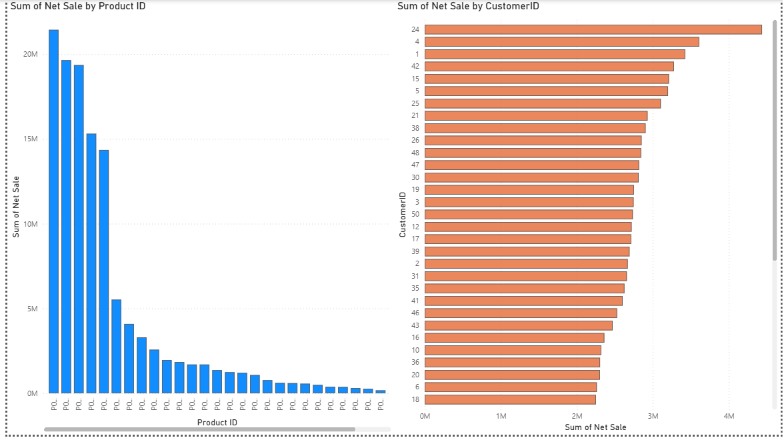

The dashboard page shown, as its layout file describes it:
{"tool":"powerbi","page":{"name":"Net Sale","canvas":[1280,720],"ordinal":0},"visuals":[{"type":"columnChart","fields":{"Category":["Fact.Product ID"],"Y":["Sum(Fact.Net Sale)"]},"box":[0,0,640,720],"z":0},{"type":"barChart","fields":{"Y":["Sum(Fact.Net Sale)"],"Category":["Fact.CustomerID"]},"box":[640.6,0,638.7,720],"z":1000}]}

Visuals, with their boxes in screenshot pixels (x1, y1, x2, y2), scaled from the page's 1280x720 canvas onto the 783x439 screenshot:
columnChart - Fact.Product ID x Sum(Fact.Net Sale): pyautogui.locateOnScreen(0, 0, 392, 438)
barChart - Sum(Fact.Net Sale) x Fact.CustomerID: pyautogui.locateOnScreen(392, 0, 782, 438)
